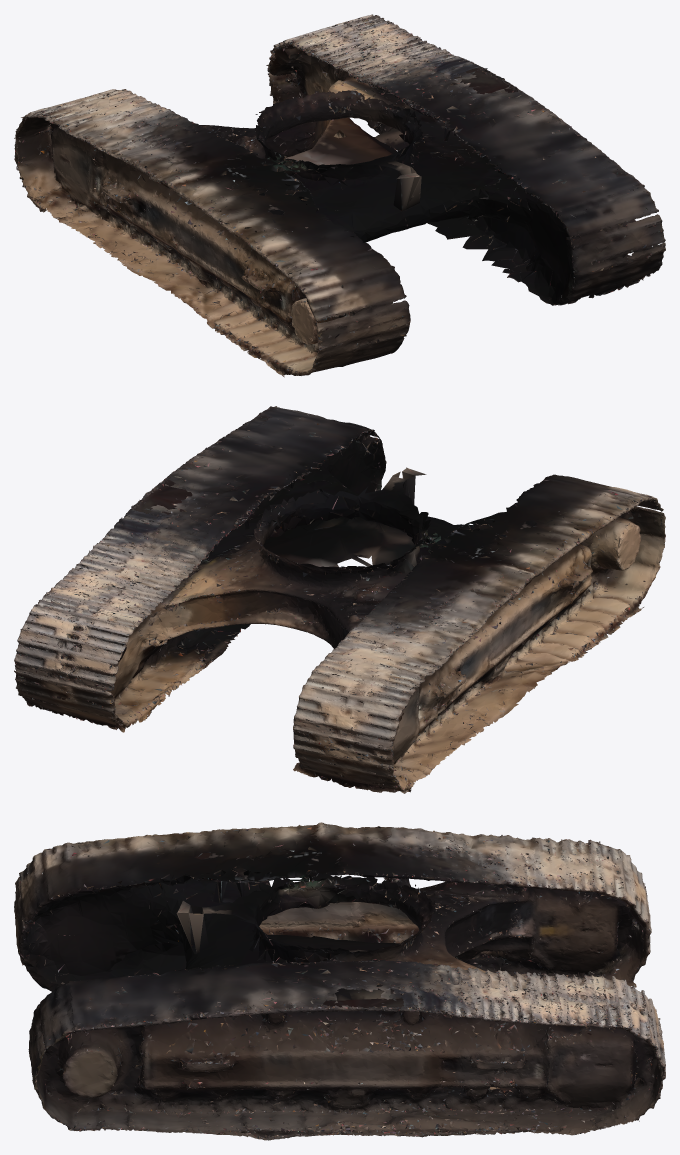
File: track.fbx
The picture shows the model from 3 angles, top to bottom: view 1: azimuth 30°, elevation 25°; view 2: azimuth 150°, elevation 25°; view 3: azimuth 270°, elevation 25°; orthographic projection. The views are drawn at different scales.
Visible parts, largest first — view 1: track; view 2: track; view 3: track.
Boxes of the visible parts, <box> form: track: <box>14,14,665,377</box>; track: <box>14,406,665,793</box>; track: <box>14,822,665,1140</box>.
Bounding box in the file's own units: 125 × 40.25 × 167.
1 material, 1 textured.
